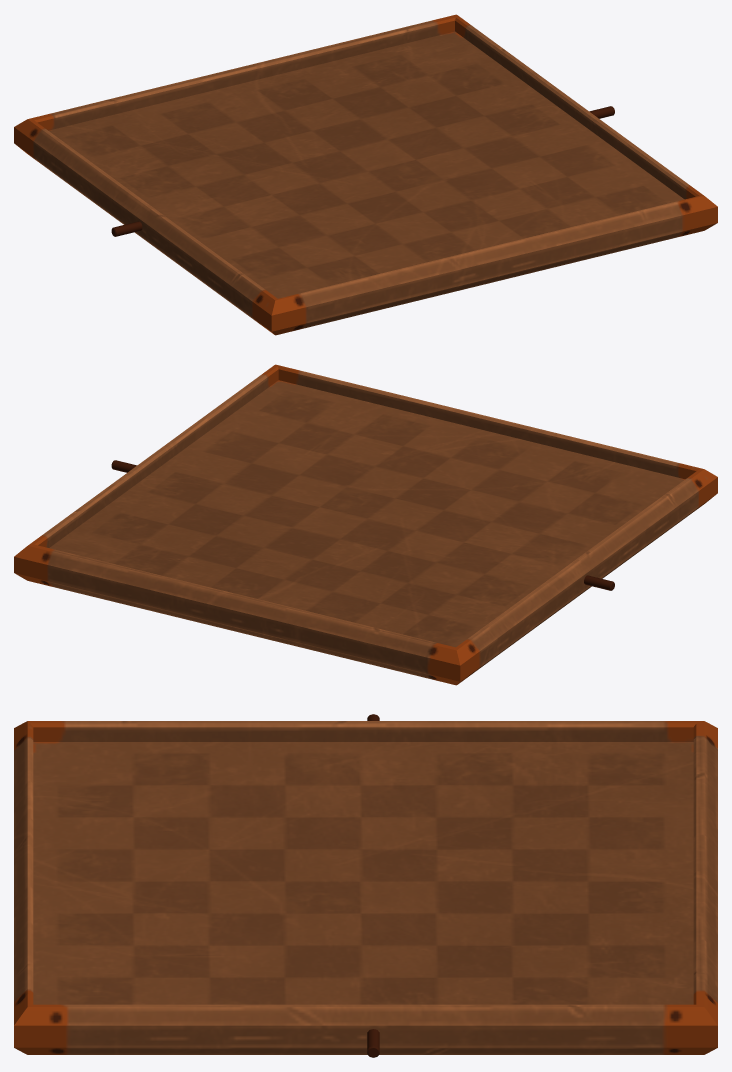
File: Spinner.fbx
3 renders of one model, top to bottom at view 1: azimuth 30°, elevation 25°; view 2: azimuth 150°, elevation 25°; view 3: azimuth 270°, elevation 25°, orthographic. The views are drawn at different scales.
Visible parts, largest first — view 1: SpinFrame; view 2: SpinFrame; view 3: SpinFrame.
Boxes of the visible parts, box(x1,y1,x2,y2) form: SpinFrame: box(14, 14, 717, 335); SpinFrame: box(14, 364, 717, 685); SpinFrame: box(14, 714, 717, 1057).
Bounding box in the file's own units: 3.78 × 0.2532 × 3.37.
